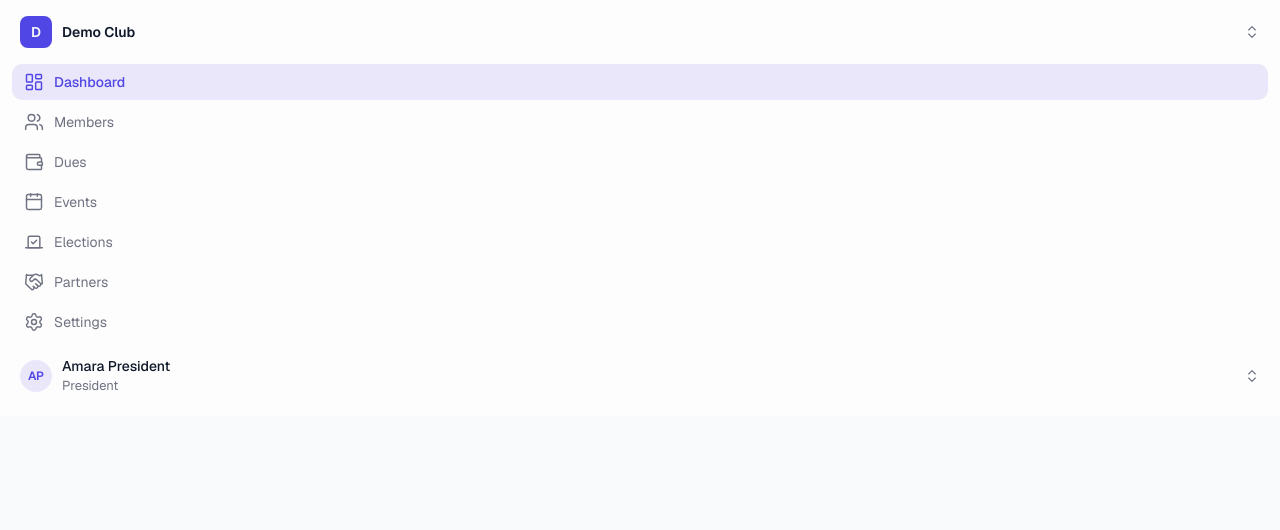
Test: Sidebar user menu › shows a Sign out item with a visible label
This screenshot has width=1280, height=530.
Click the button "AP Amara President President". click: point(36, 376)
box: x1=12 y1=348 x2=1268 y2=404
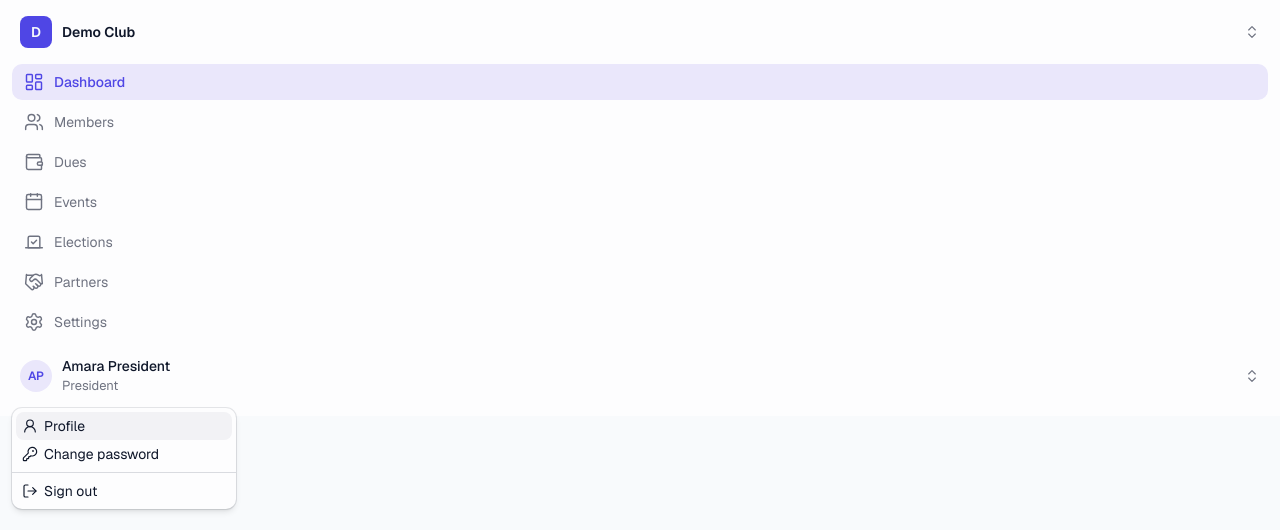
Result: the menu item "Sign out" is shown at x1=16 y1=477 x2=232 y2=505
